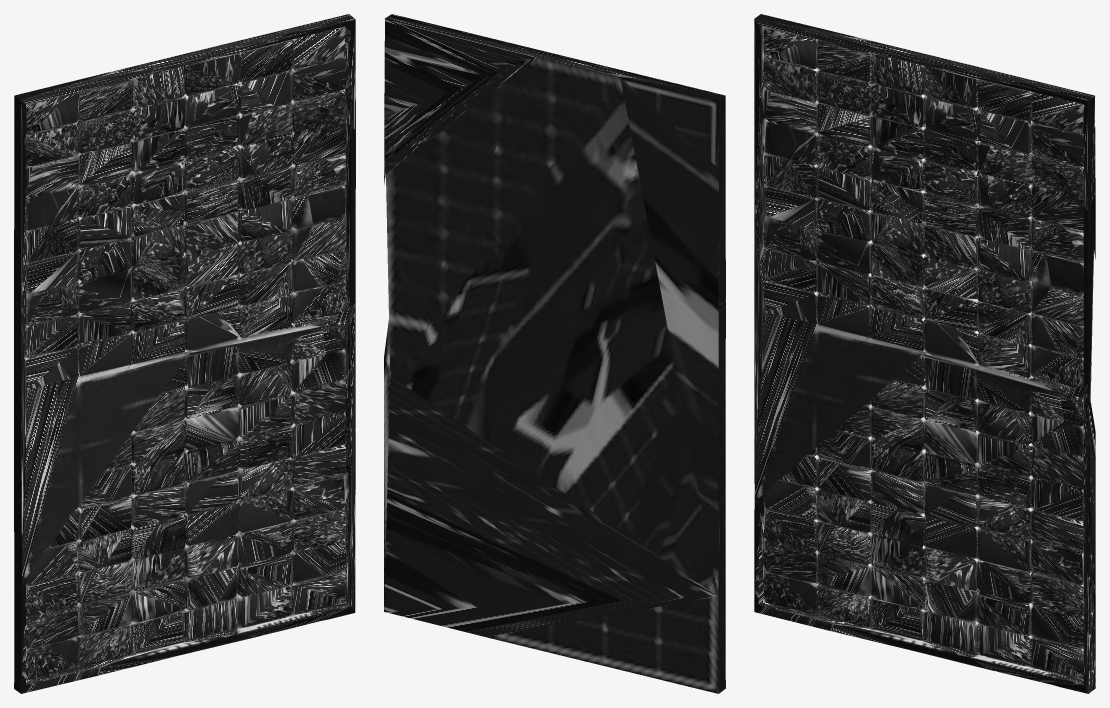
File: emcar-jinko-475-phone.glb
3 renders of one model, left to right at view 1: azimuth 30°, elevation 25°; view 2: azimuth 150°, elevation 25°; view 3: azimuth 330°, elevation 25°, orthographic.
Parts seen in each view (by area): view 1: Mesh_0; view 2: Mesh_0; view 3: Mesh_0.
Part boxes in pixels (x1,y1,x2,y2): Mesh_0: (14, 14, 355, 693); Mesh_0: (384, 14, 725, 693); Mesh_0: (754, 14, 1095, 693).
Bounding box in the file's own units: 1.12 × 1.9 × 0.043.
Materials: 1 (1 with a texture image).
